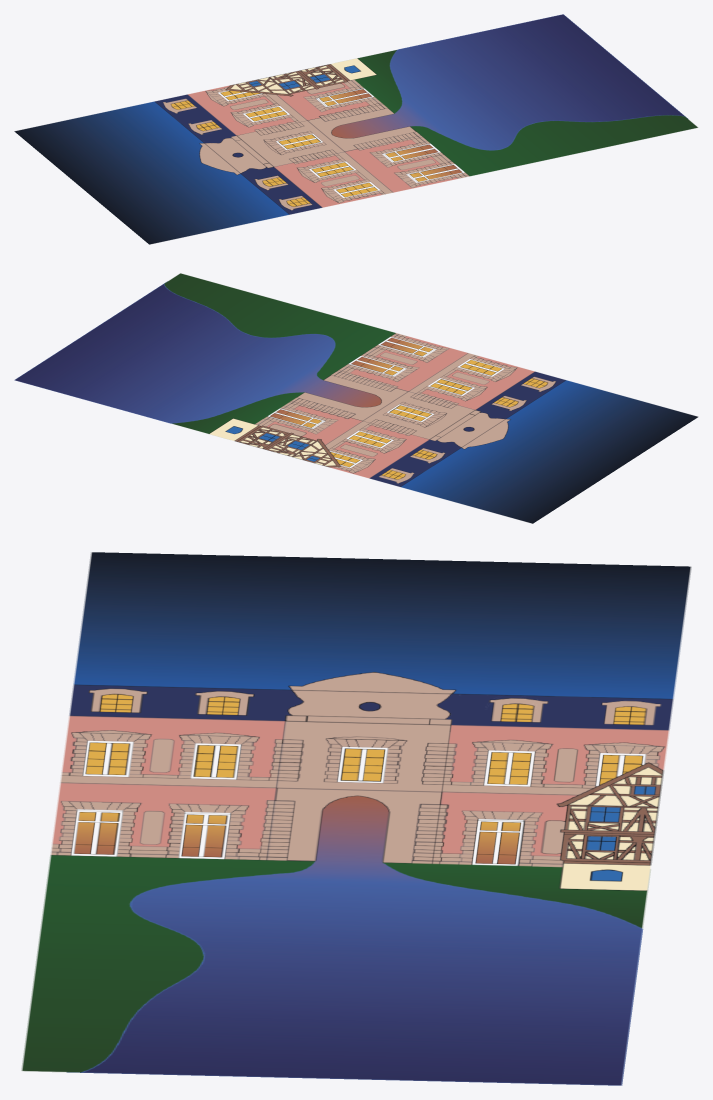
The model's file is essai3.glb.
3 views of the same model, one above another, from view 1: azimuth 30°, elevation 25°; view 2: azimuth 150°, elevation 25°; view 3: azimuth 270°, elevation 25° (orthographic). The views are drawn at different scales.
Visible parts, largest first — view 1: Carte de voeux@3x; view 2: Carte de voeux@3x; view 3: Carte de voeux@3x.
Part boxes in pixels (x1,y1,x2,y2): Carte de voeux@3x: [14, 14, 698, 244]; Carte de voeux@3x: [14, 273, 698, 523]; Carte de voeux@3x: [21, 552, 691, 1085].
Size of the model in its own units: 1.03 by 0 by 0.5452.
1 material, 1 textured.
